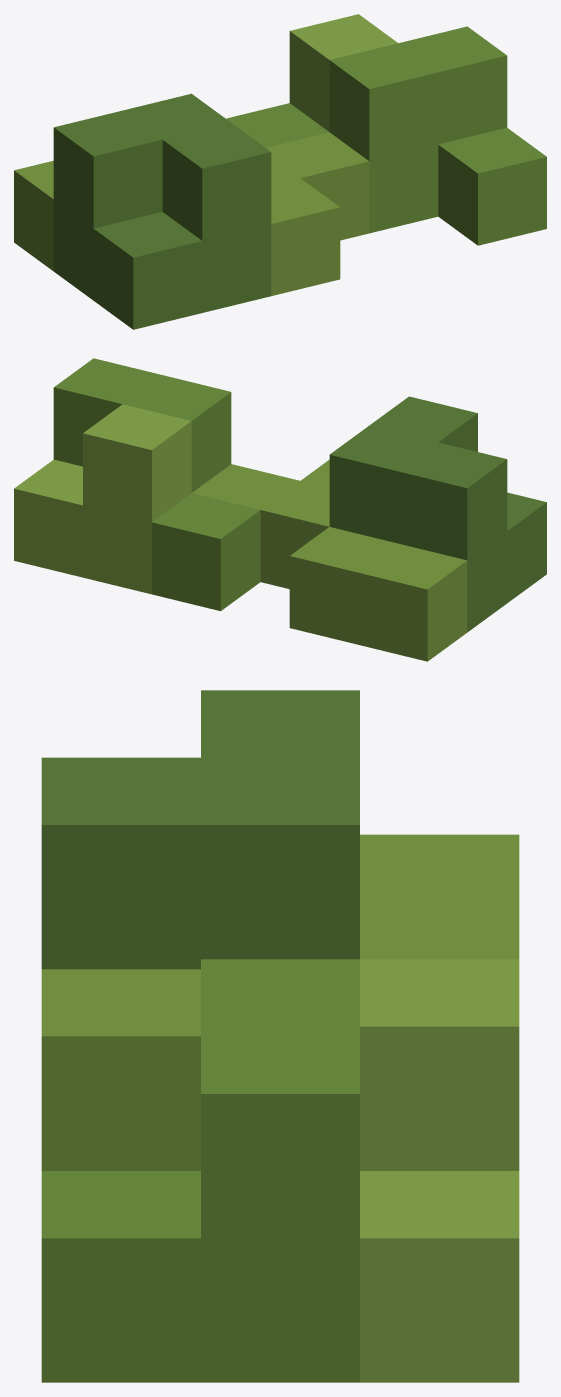
File: SM_VMF_GroundStudy_GrassClump_Edge.fbx
3 views of the same model, one above another, from view 1: azimuth 30°, elevation 25°; view 2: azimuth 150°, elevation 25°; view 3: azimuth 270°, elevation 25° (orthographic). The views are drawn at different scales.
Parts seen in each view (by area): view 1: SM_VMF_GroundStudy_GrassClump_Edge_Surface; view 2: SM_VMF_GroundStudy_GrassClump_Edge_Surface; view 3: SM_VMF_GroundStudy_GrassClump_Edge_Surface.
Boxes of the visible parts, box(x1,y1,x2,y2) form: SM_VMF_GroundStudy_GrassClump_Edge_Surface: box(14, 14, 546, 329); SM_VMF_GroundStudy_GrassClump_Edge_Surface: box(14, 358, 546, 661); SM_VMF_GroundStudy_GrassClump_Edge_Surface: box(41, 690, 519, 1382).
Bounding box in the file's own units: 24 × 8 × 12.
Materials: 1 (1 with a texture image).
